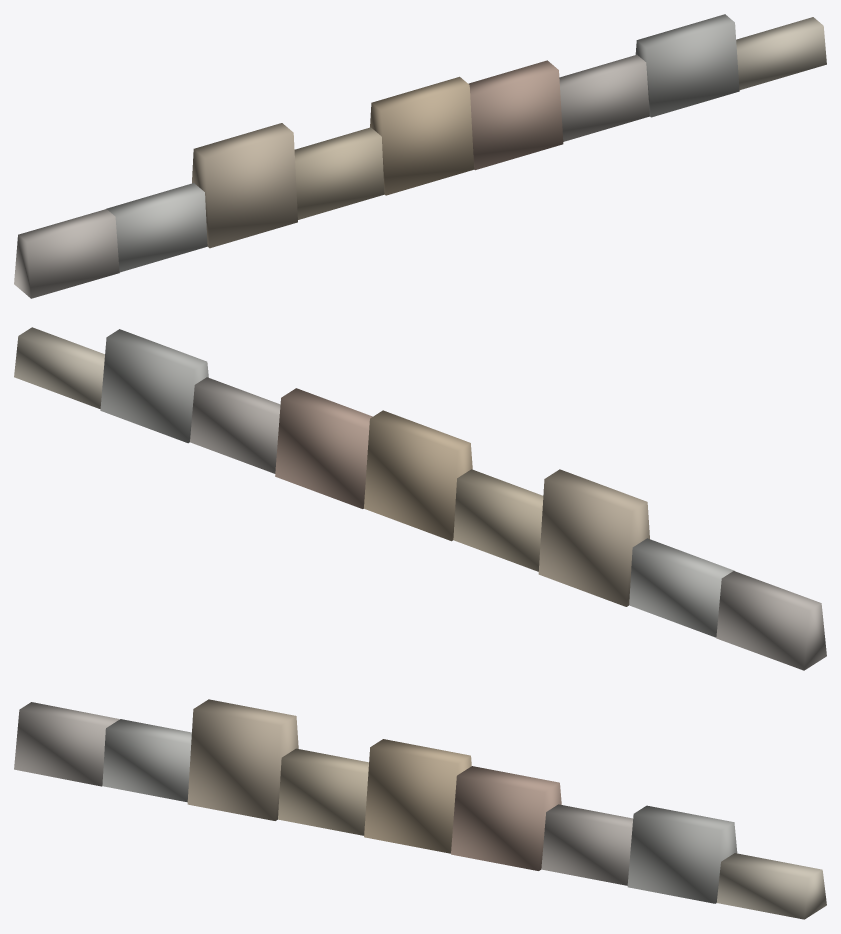
The model's file is farm_27_20_collision.glb.
3 views of the same model, one above another, from view 1: azimuth 30°, elevation 25°; view 2: azimuth 150°, elevation 25°; view 3: azimuth 330°, elevation 25° (orthographic). The views are drawn at different scales.
Parts seen in each view (by area): view 1: geometry_0; view 2: geometry_0; view 3: geometry_0.
Boxes of the visible parts, box(x1,y1,x2,y2) form: geometry_0: box(14, 14, 826, 298); geometry_0: box(14, 327, 826, 670); geometry_0: box(14, 699, 826, 919).
Bounding box in the file's own units: 14.15 × 2.19 × 1.49.
